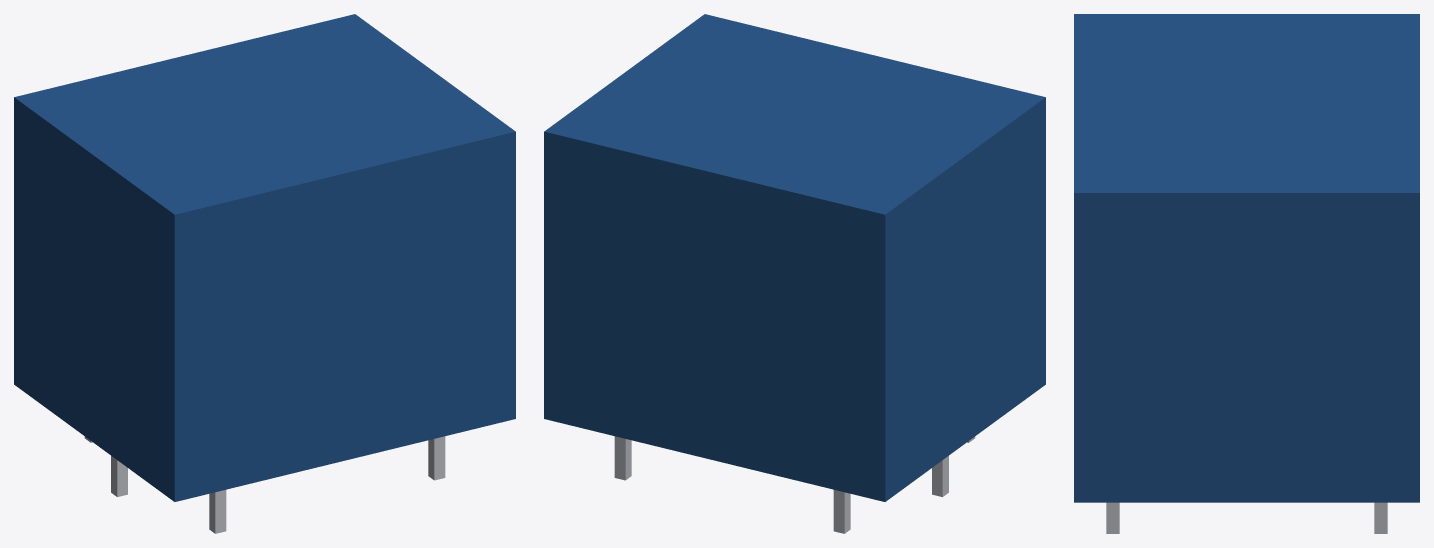
Rendered from relay-srd-05vdc-sl-c.glb.
3 views of the same model, side by side, from view 1: azimuth 30°, elevation 25°; view 2: azimuth 150°, elevation 25°; view 3: azimuth 270°, elevation 25° (orthographic). The views are drawn at different scales.
Parts seen in each view (by area): view 1: object 1, pin-4, pin-5, pin-1; view 2: object 1, pin-2, pin-3, pin-1; view 3: object 1, pin-3, pin-4.
Part boxes in pixels (<box>): object 1: <box>14,14,515,501</box>; pin-4: <box>428,436,445,480</box>; pin-5: <box>209,490,226,533</box>; pin-1: <box>111,456,127,496</box>; object 1: <box>544,14,1045,501</box>; pin-2: <box>833,490,850,533</box>; pin-3: <box>614,436,631,480</box>; pin-1: <box>932,456,948,496</box>; object 1: <box>1074,14,1419,502</box>; pin-3: <box>1374,502,1387,533</box>; pin-4: <box>1106,502,1119,533</box>.
Size of the model in its own units: 0.019 by 0.0183 by 0.0155.
